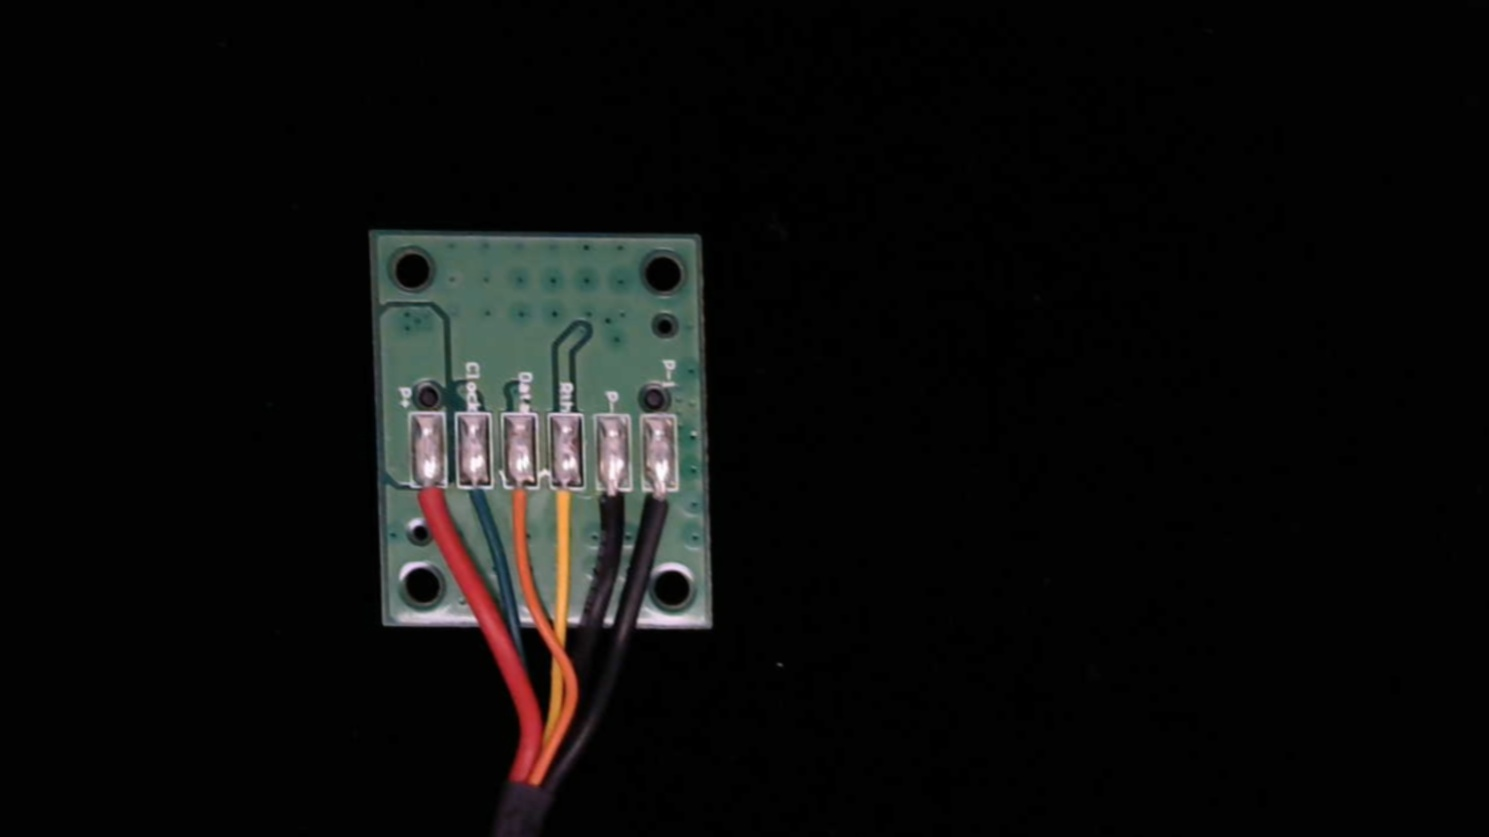Black: (595, 469, 635, 538)
Black1: (642, 469, 681, 540)
Green: (454, 467, 497, 535)
Orange: (500, 468, 542, 547)
Red: (411, 464, 452, 543)
Yellow: (549, 470, 589, 543)
